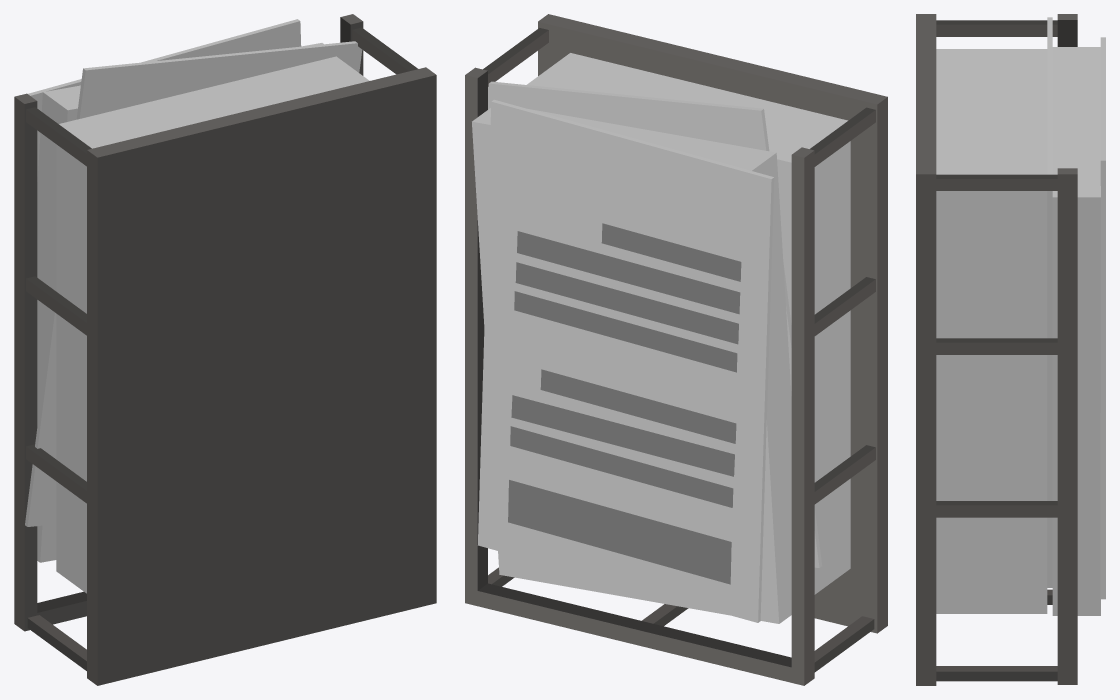
File: PaperTray3.glb
3 views of the same model, side by side, from view 1: azimuth 30°, elevation 25°; view 2: azimuth 150°, elevation 25°; view 3: azimuth 270°, elevation 25° (orthographic). The views are drawn at different scales.
Parts seen in each view (by area): view 1: SO_PaperTray_03; view 2: SO_PaperTray_03; view 3: SO_PaperTray_03.
Part boxes in pixels (bbox=[...]): SO_PaperTray_03: bbox=[14, 14, 436, 685]; SO_PaperTray_03: bbox=[465, 14, 887, 685]; SO_PaperTray_03: bbox=[916, 14, 1105, 685].
Size of the model in its own units: 0.5811 by 0.8988 by 0.2889.
Materials: 1 (1 with a texture image).
